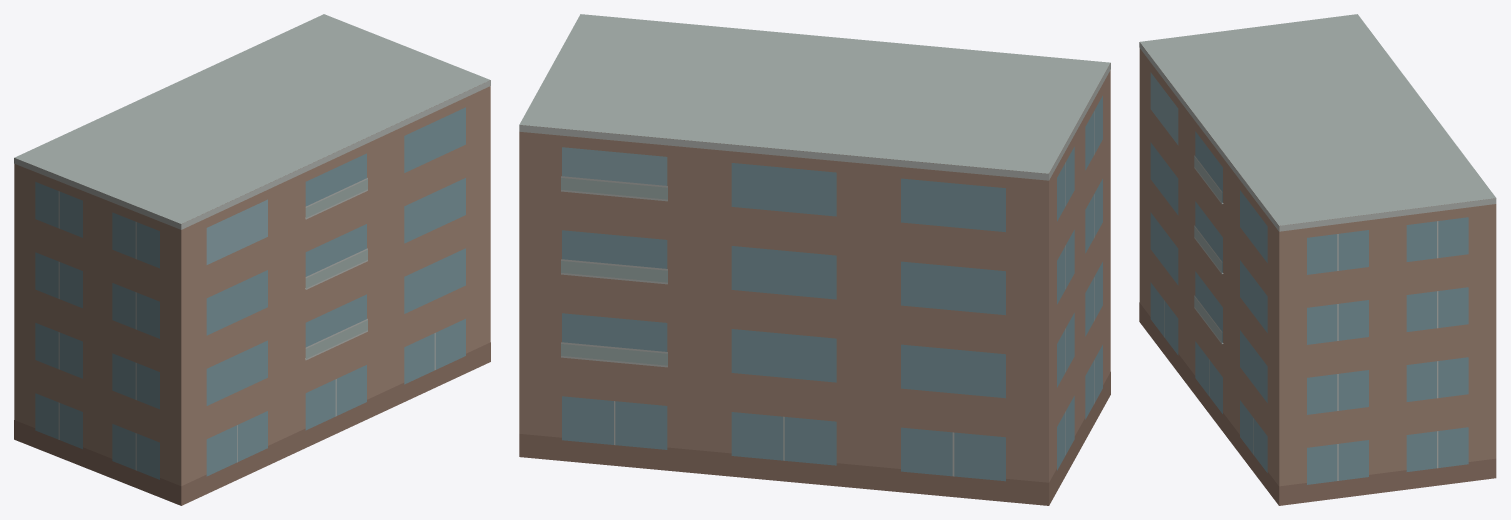
File: survey-upis-33041446.glb
3 views of the same model, side by side, from view 1: azimuth 30°, elevation 25°; view 2: azimuth 150°, elevation 25°; view 3: azimuth 270°, elevation 25° (orthographic). The views are drawn at different scales.
Parts seen in each view (by area): view 1: survey-upis-33041446.tmp; view 2: survey-upis-33041446.tmp; view 3: survey-upis-33041446.tmp.
Boxes of the visible parts, box(x1,y1,x2,y2) form: survey-upis-33041446.tmp: box(14, 14, 490, 505); survey-upis-33041446.tmp: box(519, 14, 1110, 505); survey-upis-33041446.tmp: box(1139, 14, 1496, 505).
Bounding box in the file's own units: 19 × 11.7 × 13.52.
